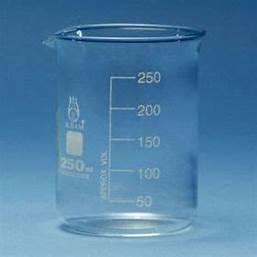Beaker: (33, 22, 212, 244)
